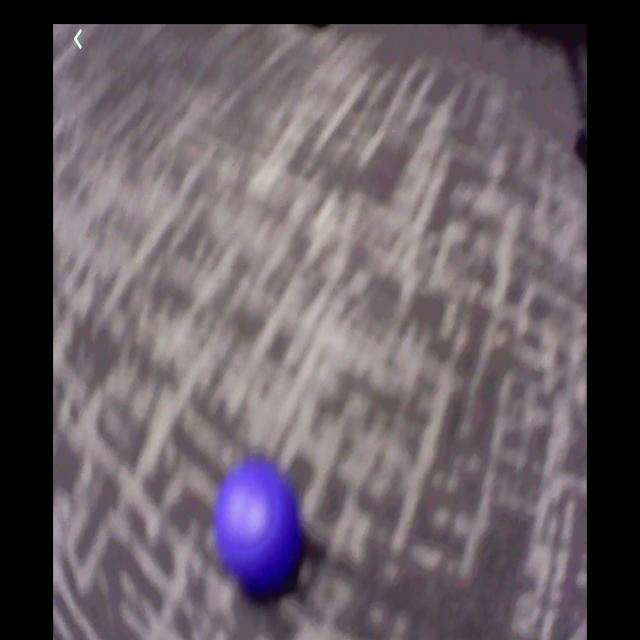ball: (216, 458, 302, 595)
